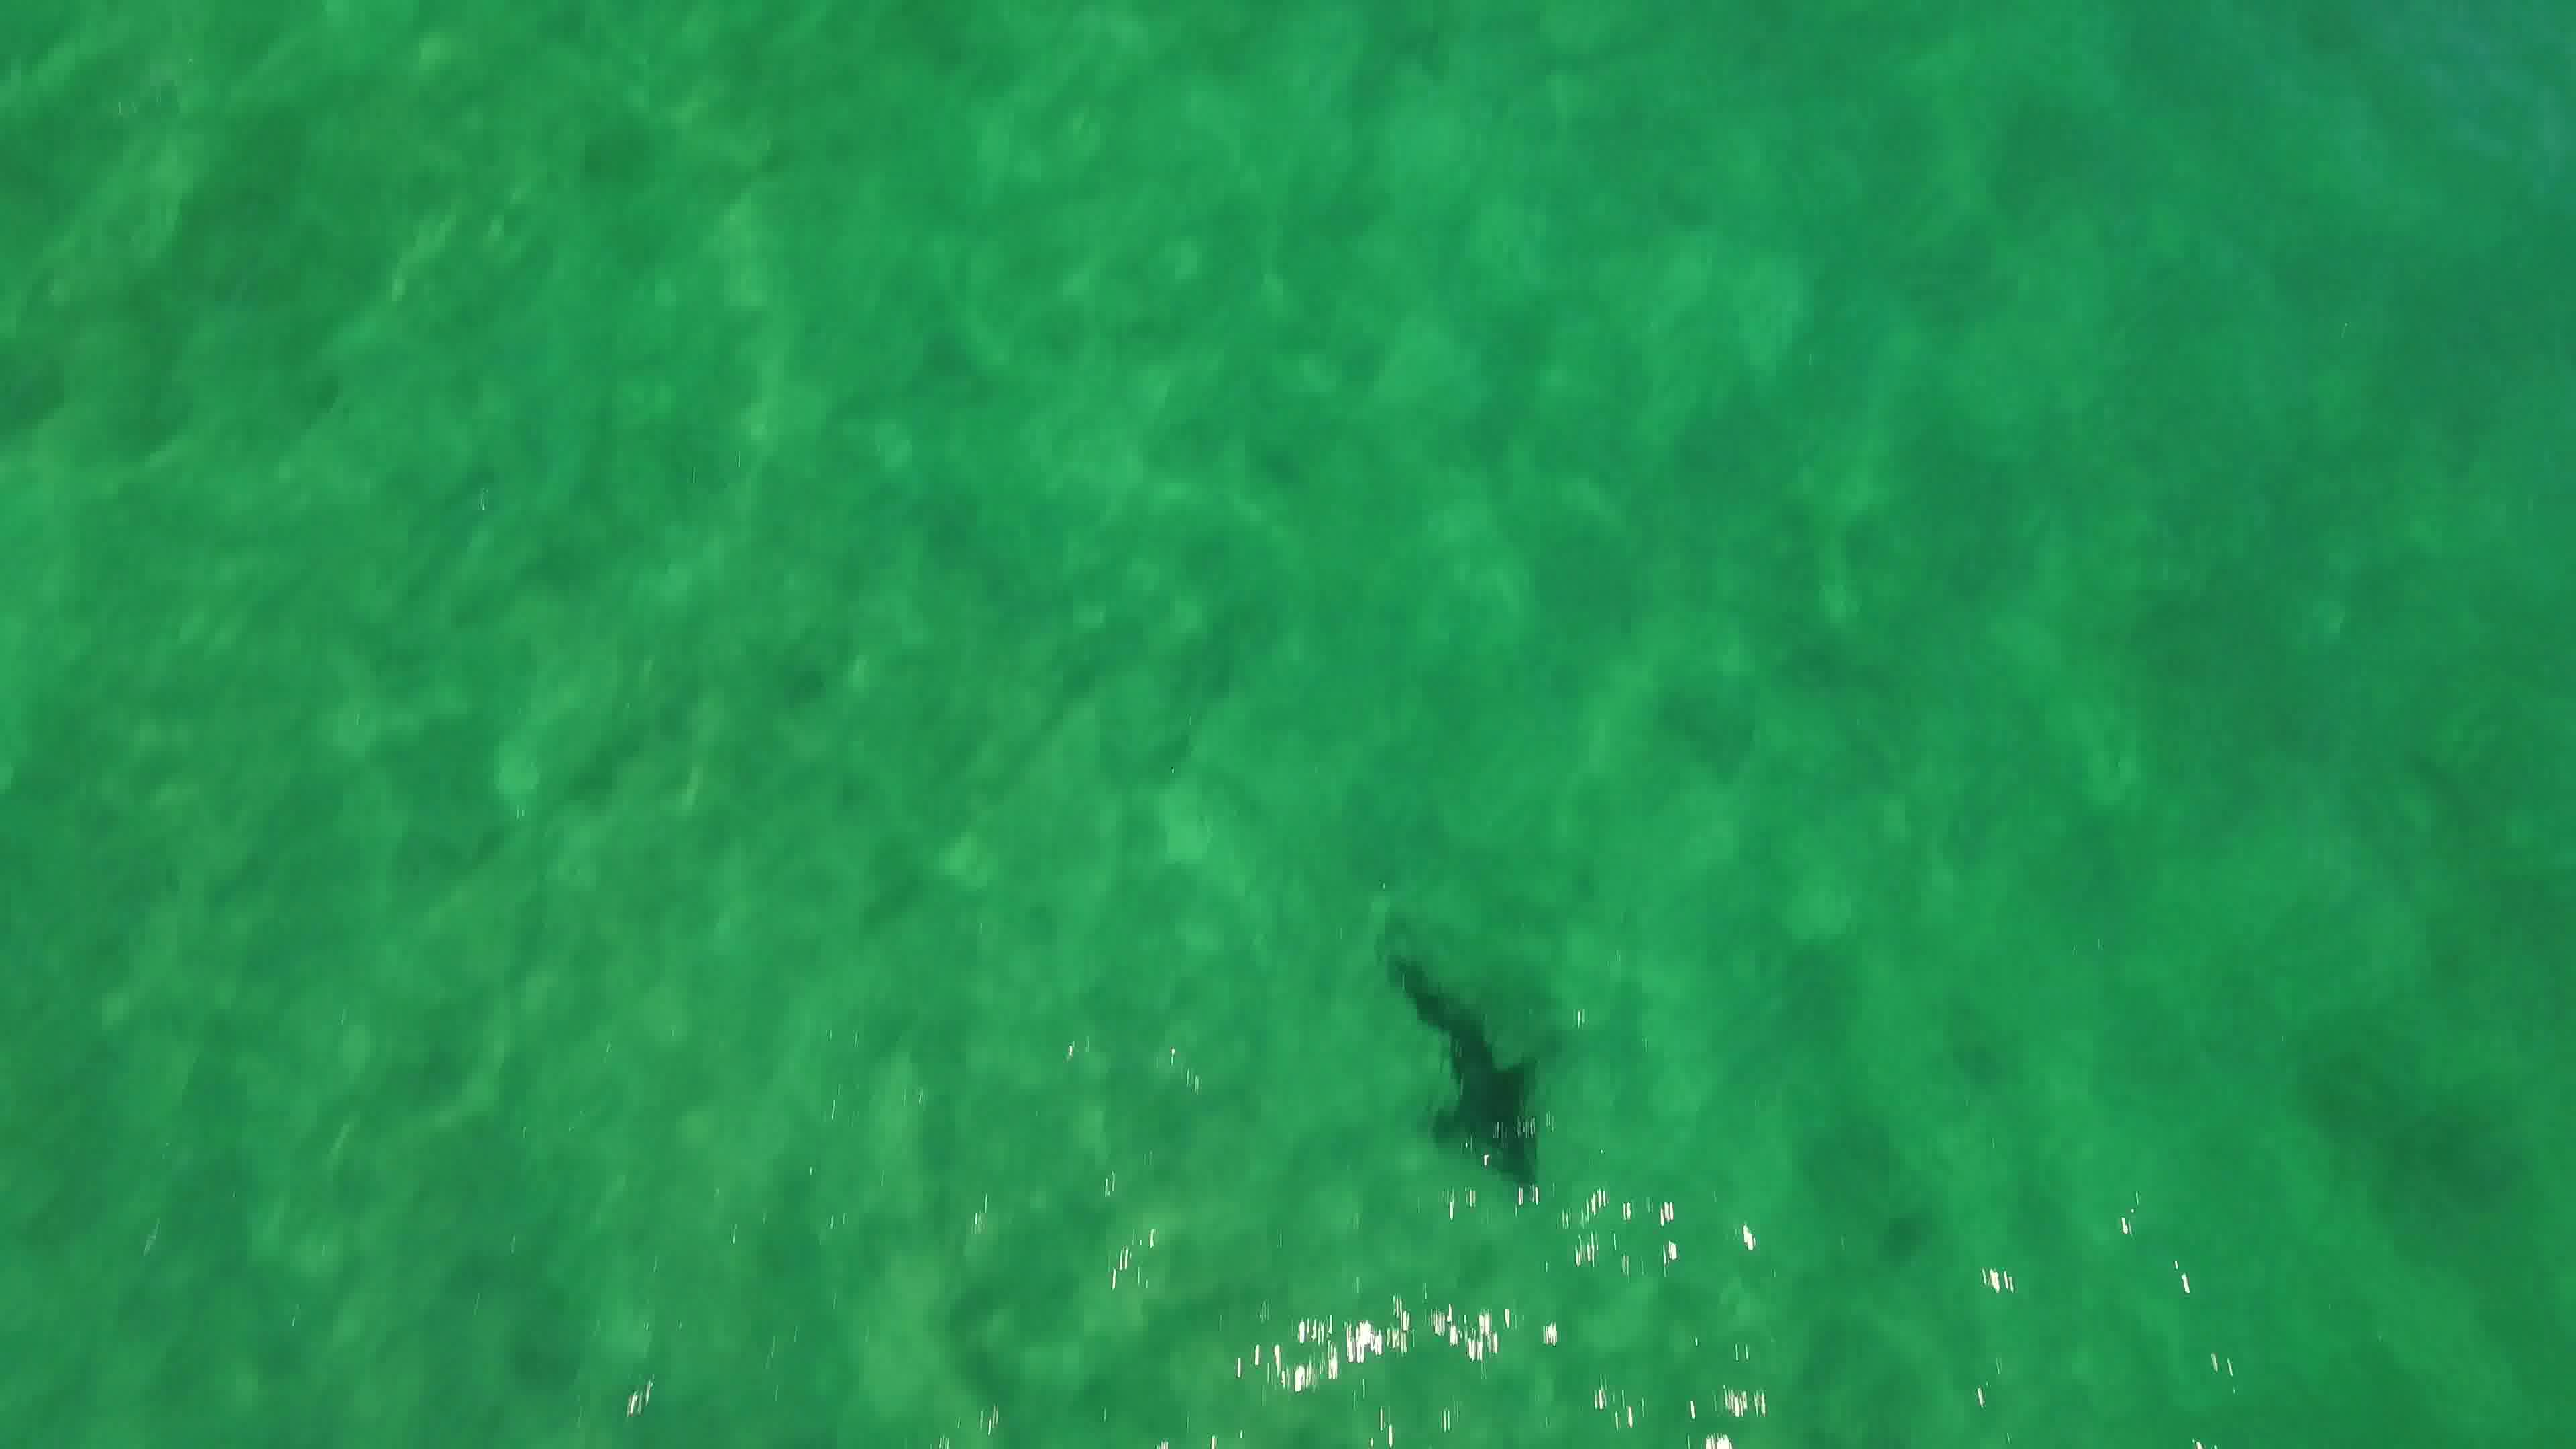shark: (1362, 911, 1560, 1200)
